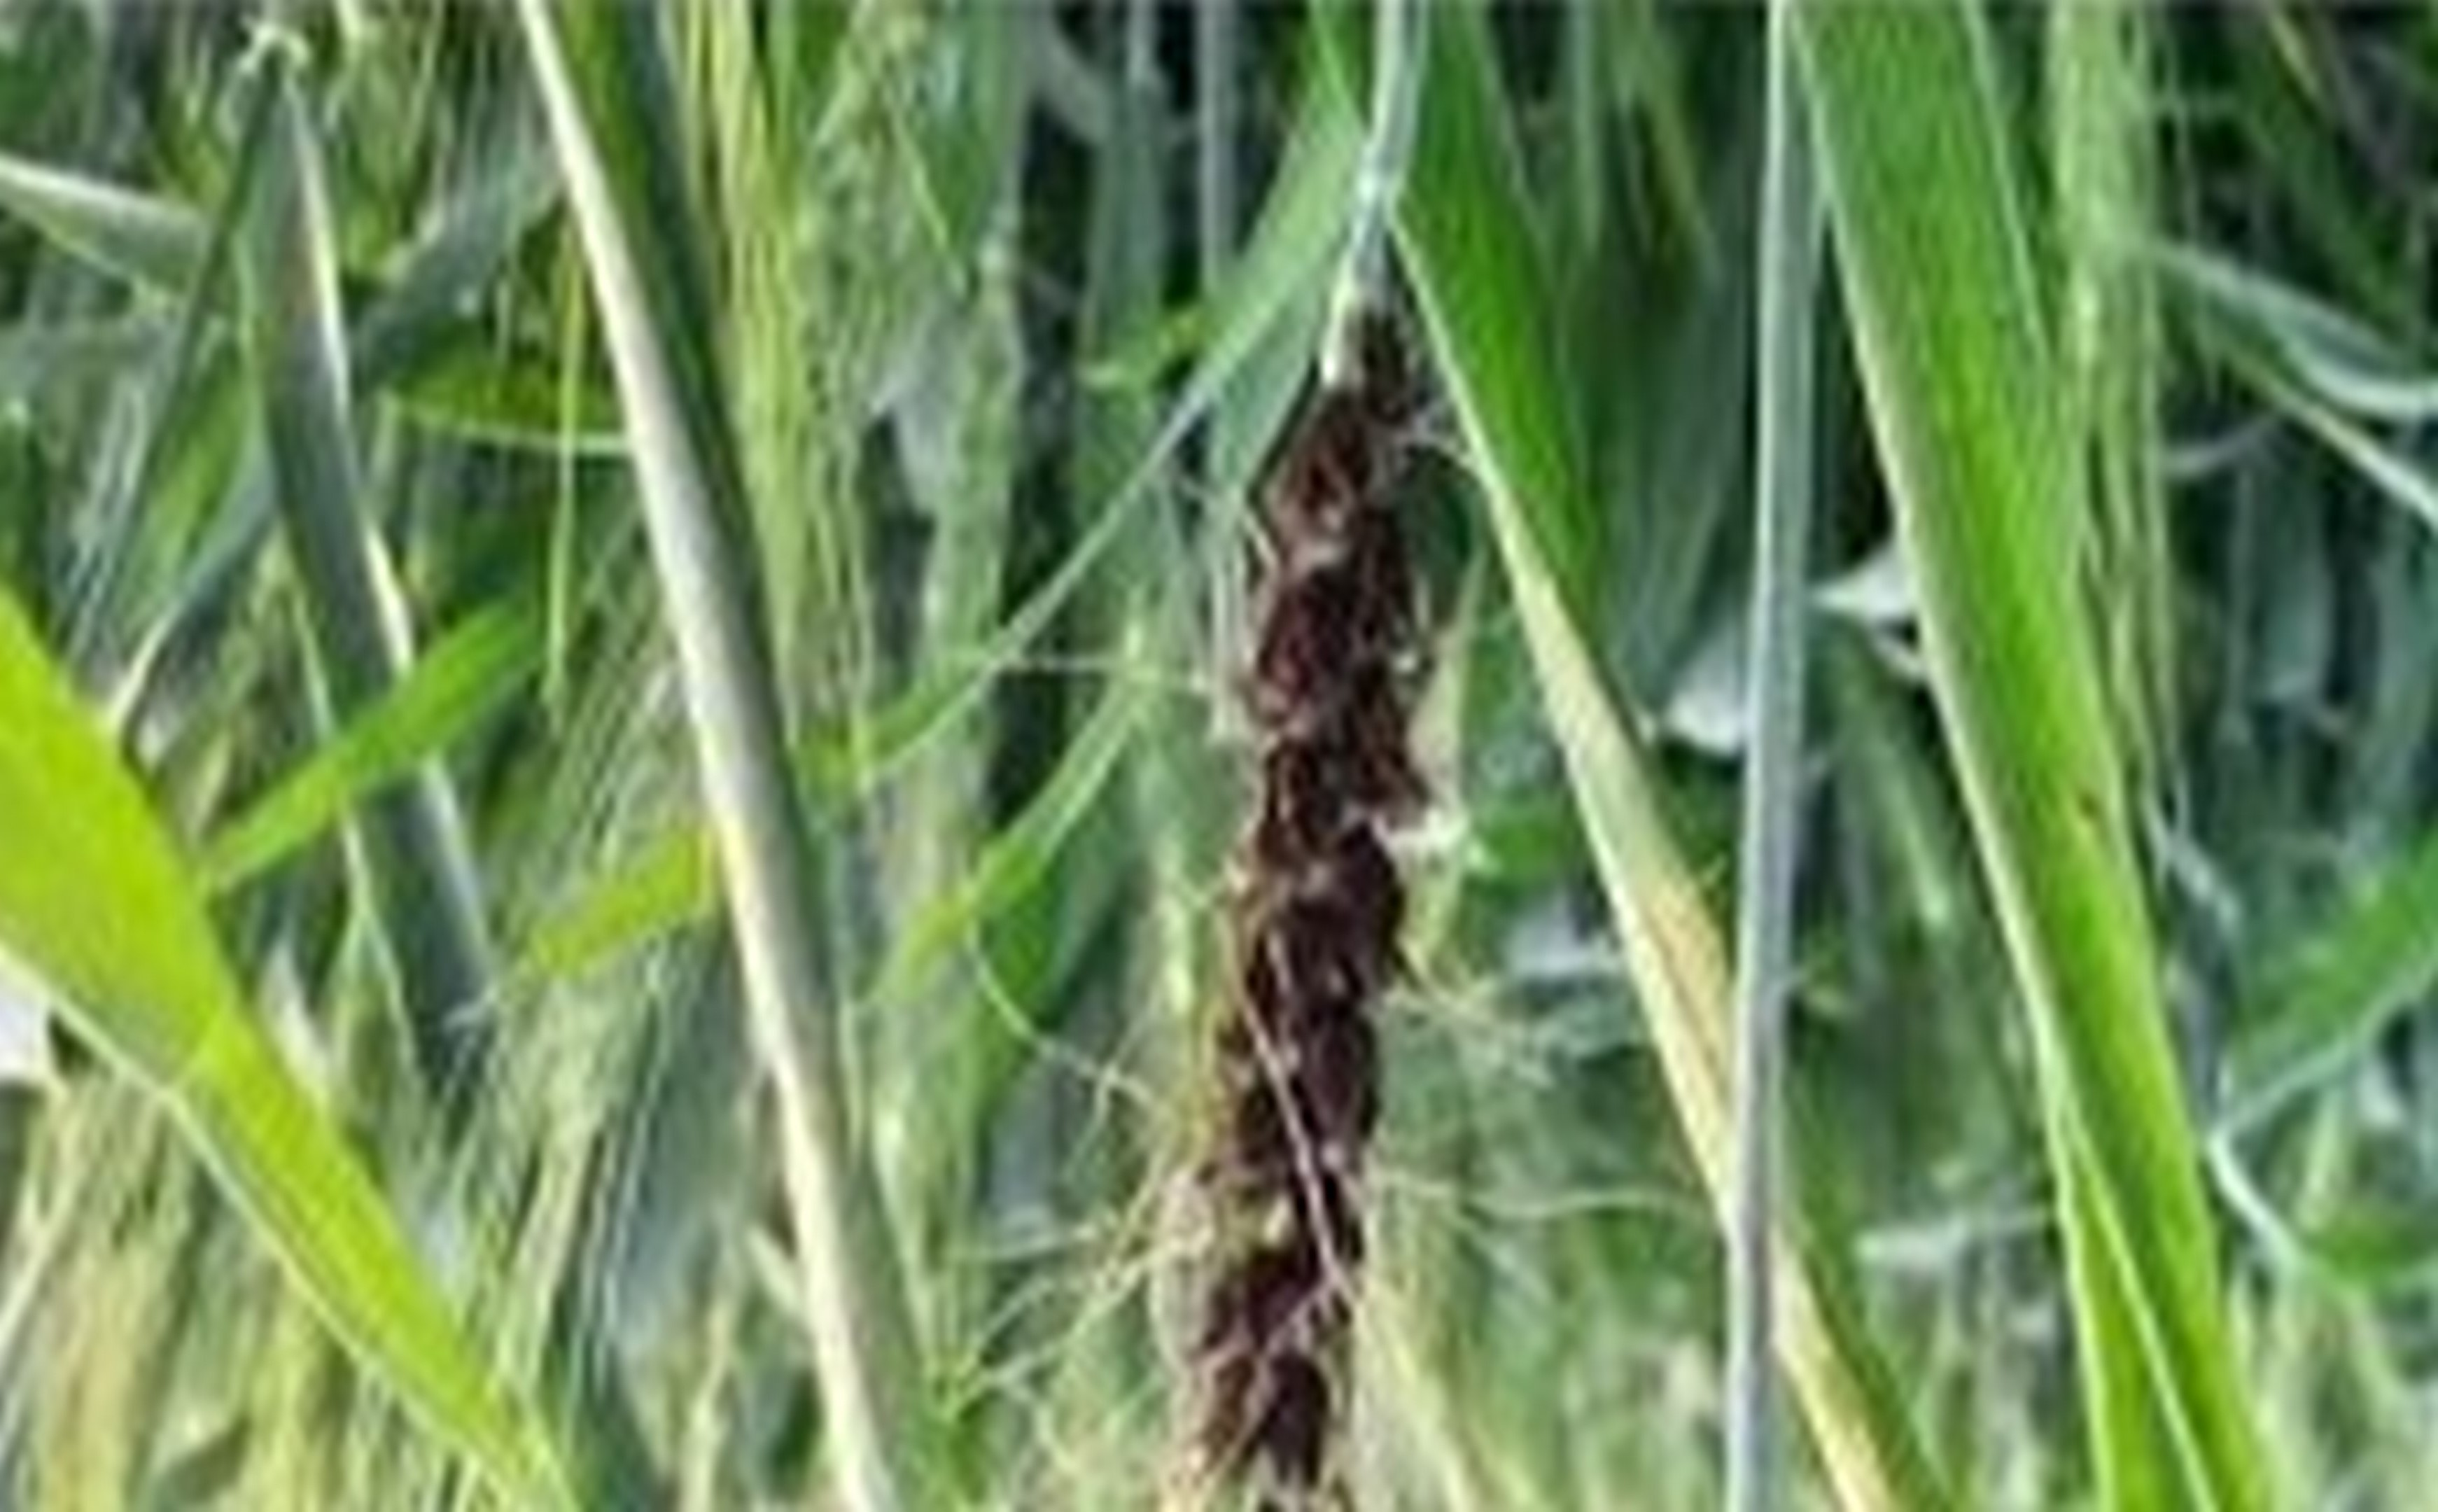Wheat Loose Smut: (1167, 395, 1482, 1482)
